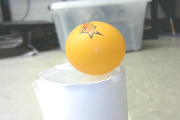PingPongBall: (67, 21, 125, 76)
